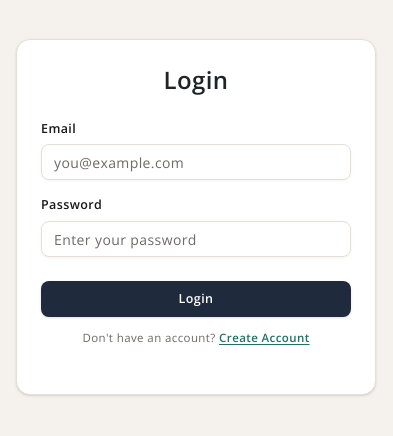
Test case: LoginPage › shows required field validation and blocks submit
What coordinates should you click on to do the following:
click the button "Login"
I would click on:
 (196, 299)
Its box is [41, 281, 351, 317].
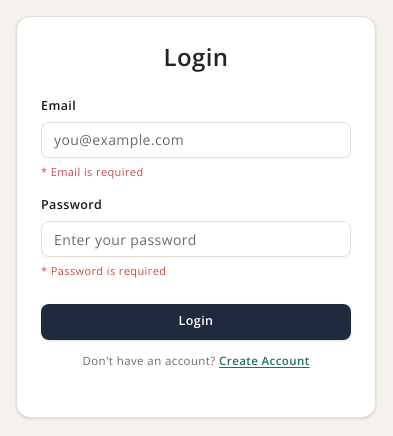
Expected: the text "* Email is required" is shown, [41, 164, 144, 179]
Expected: the text "* Password is required" is shown, [41, 263, 166, 278]
